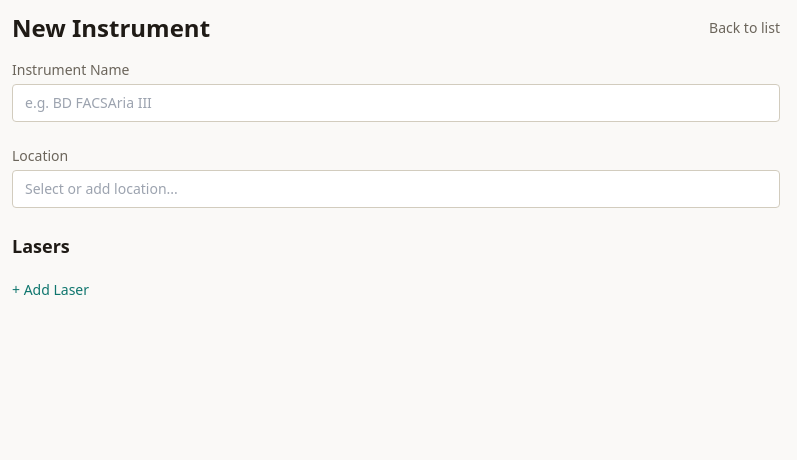
Test: InstrumentEditor › removing a detector removes the row
Click the button "+ Add Laser" at (50, 290), box [12,280,89,300]
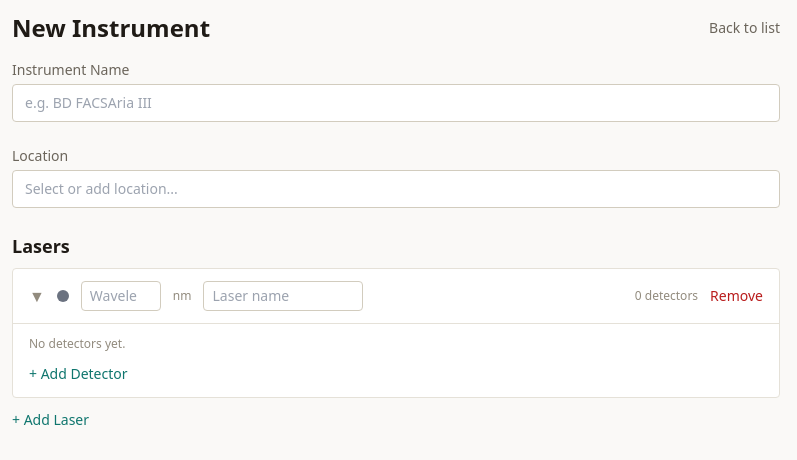
Click the button "+ Add Detector" at (78, 374), box [29,364,128,384]
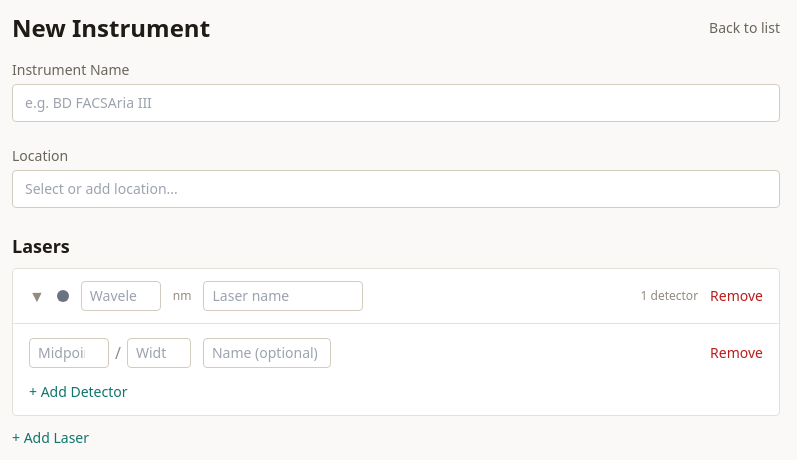
Expected: the number of number fields with placeholder "Midpoint" is 1, [29,338,109,368]
Click the button with aria-label "Remove detector" at (737, 353), box [710,343,763,363]
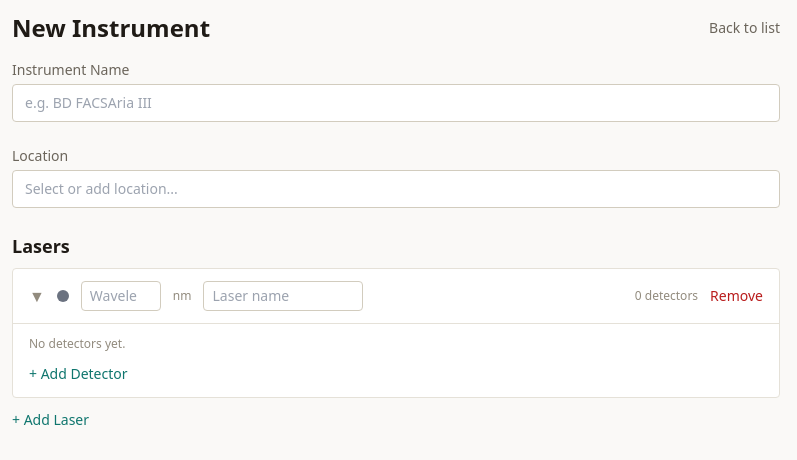
Expected: the number field with placeholder "Midpoint" is gone
